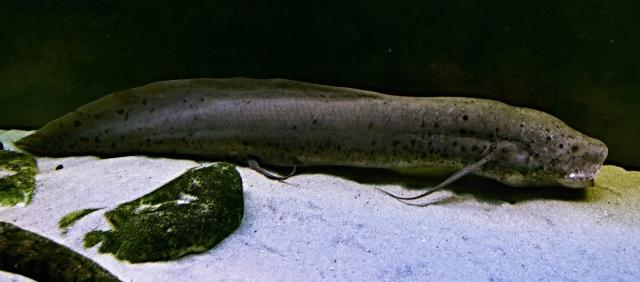Sirip Ekor: (5, 82, 136, 176)
